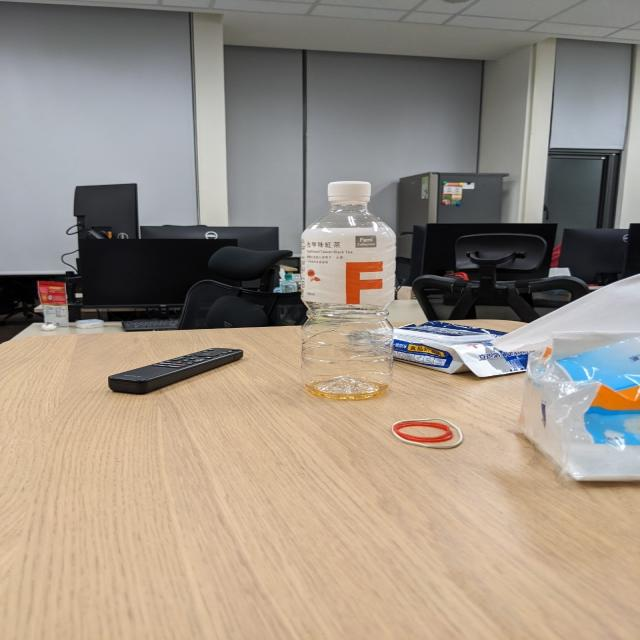bottle: (299, 180, 398, 401)
